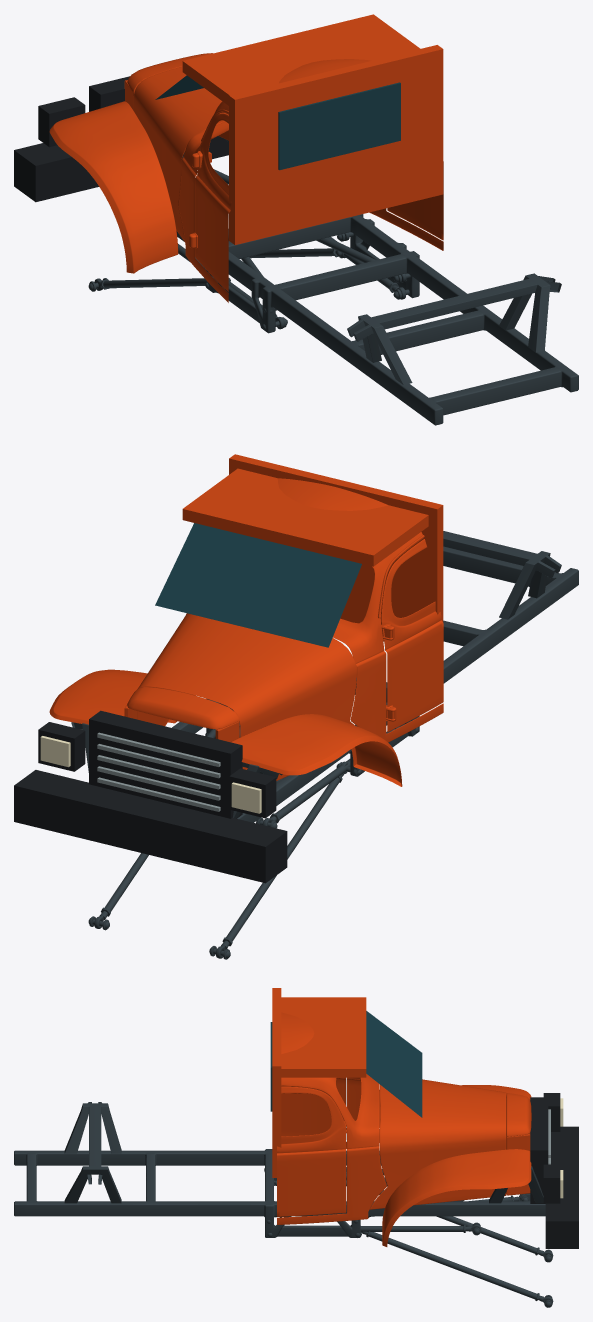
Rendered from Cab.obj.
3 views of the same model, one above another, from view 1: azimuth 30°, elevation 25°; view 2: azimuth 150°, elevation 25°; view 3: azimuth 270°, elevation 25° (orthographic). The views are drawn at different scales.
Size of the model in its own units: 1.9 by 2.19 by 4.4.
